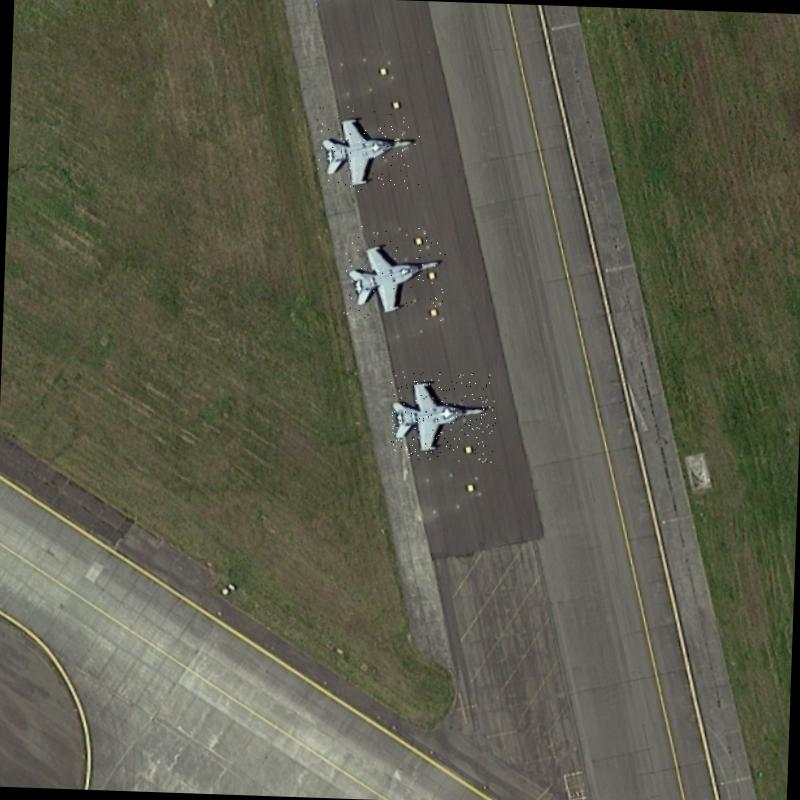A16: (388, 370, 498, 462), (343, 225, 447, 321), (314, 104, 421, 194)
